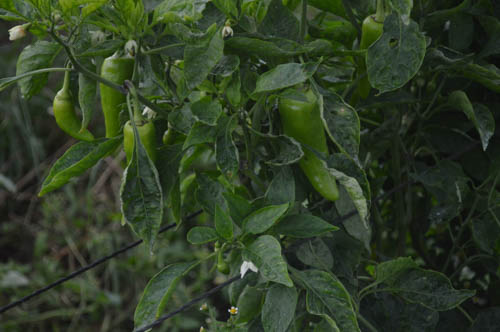ChiliPepper: (279, 85, 345, 201), (341, 12, 393, 108), (94, 54, 140, 147), (116, 112, 163, 173), (53, 84, 99, 145)
